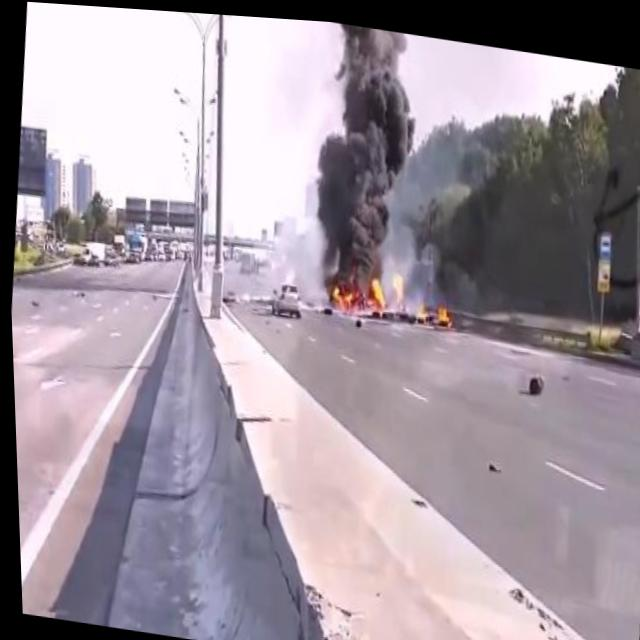fire: (323, 260, 390, 316), (384, 257, 407, 313), (409, 287, 430, 324), (430, 294, 452, 323)
